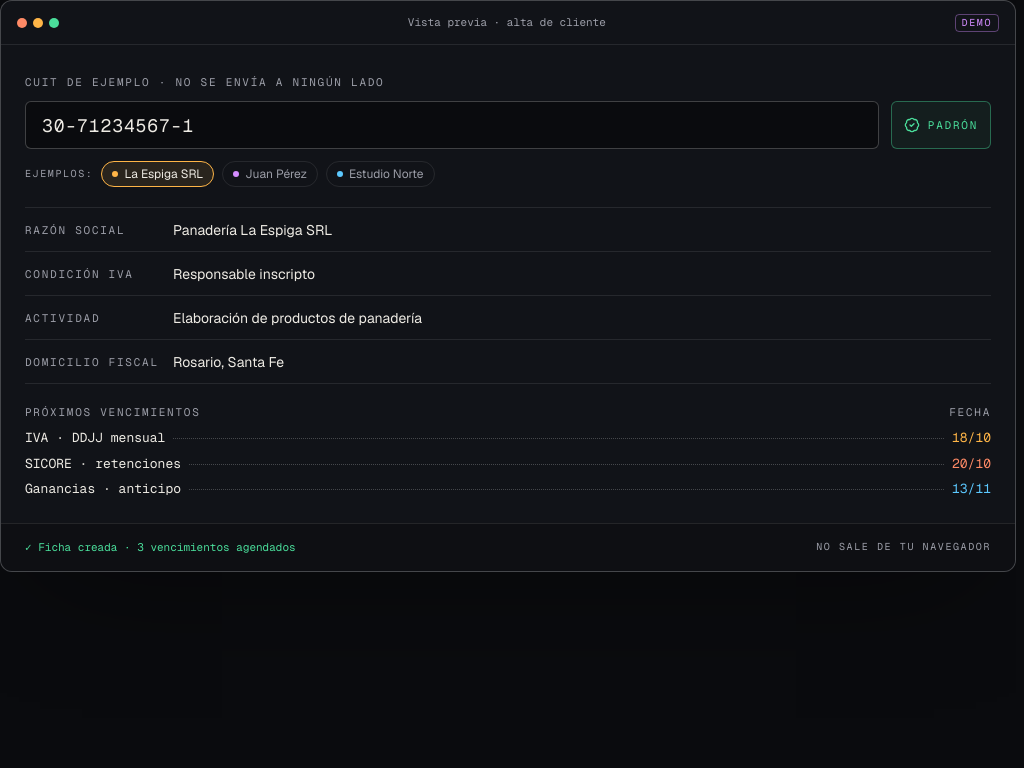
Test: <CuitDemo> › formats and validates what the visitor types
Replace the text in the field labelled "CUIT de ejemplo · no se envía a ningún lado" with "3071234" at point(452, 125), box [25,101,879,149]
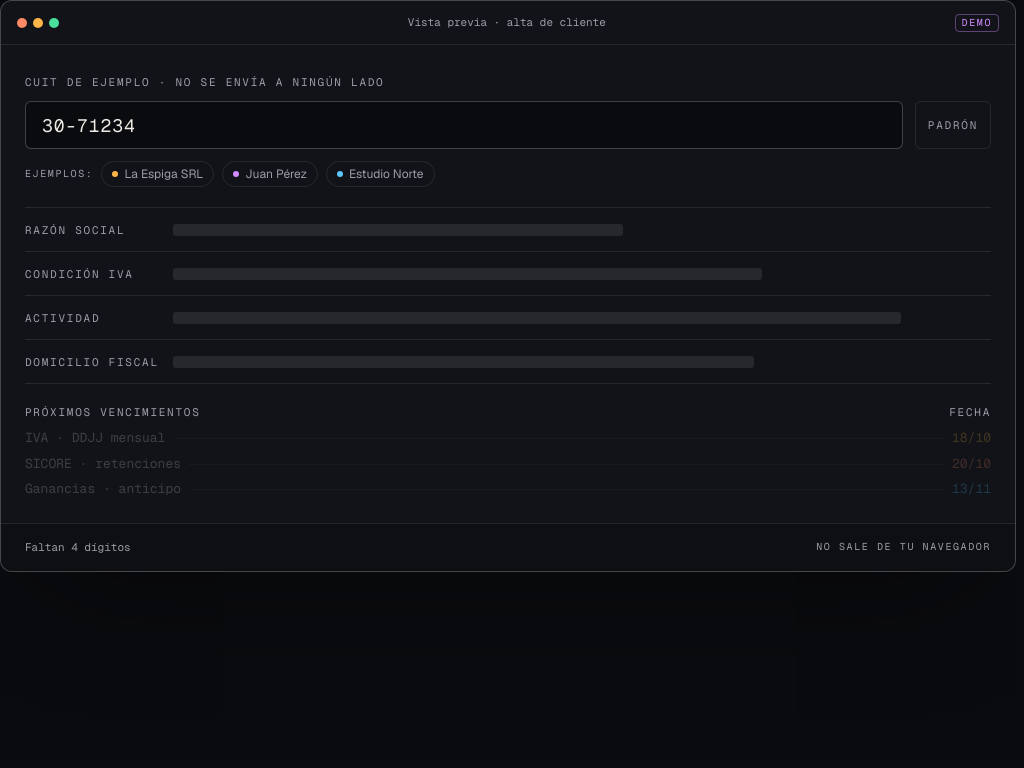
Expected: the field labelled "CUIT de ejemplo · no se envía a ningún lado" holds "30-71234"
Expected: the text "Faltan 4 dígitos" is shown, [25,539,131,555]
Replace the text in the field labelled "CUIT de ejemplo · no se envía a ningún lado" with "30712345672" at point(464, 125), box [25,101,903,149]
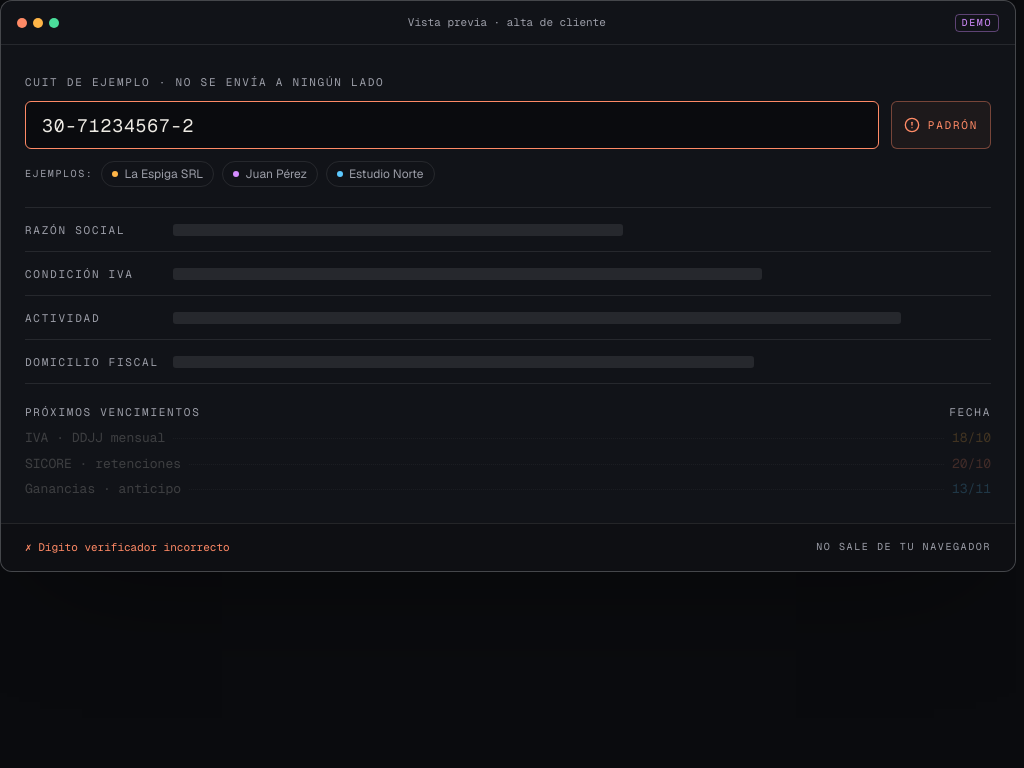
Expected: the text "✗ Dígito verificador incorrecto" is shown, [25,539,230,555]
